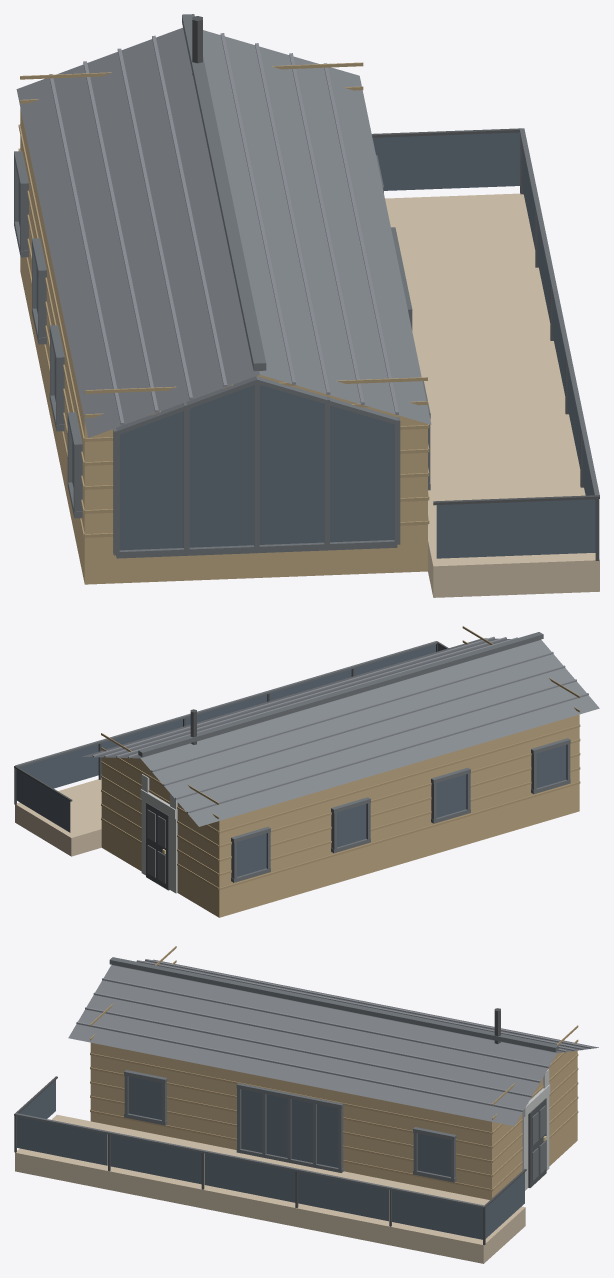
3 views of the same model, one above another, from view 1: azimuth 30°, elevation 25°; view 2: azimuth 150°, elevation 25°; view 3: azimuth 270°, elevation 25° (orthographic). The views are drawn at different scales.
Visible parts, largest first — view 1: slate, larch, window_glass_014, slate_dk, door_wood, slate_lt, window_glass_006, window_glass_007, door_wood_p, pipe; view 2: slate, door_wood, slate_dk, slate_lt, door_wood_p, larch, window_glass_005, window_glass_007, stone_band, window_glass_017, window_glass_018, window_glass_015 (+8 smaller); view 3: slate, door_wood, larch, slate_dk, slate_lt, door_wood_p, window_glass_002, window_glass_003, window_glass_001, window_glass_004, window_glass_005, window_glass_009 (+11 smaller).
Boxes of the visible parts, bbox=[...] form: slate: bbox=[16, 27, 431, 437]; larch: bbox=[385, 193, 599, 597]; window_glass_014: bbox=[119, 385, 394, 550]; slate_dk: bbox=[14, 14, 599, 558]; door_wood: bbox=[20, 108, 427, 584]; slate_lt: bbox=[49, 33, 398, 425]; window_glass_006: bbox=[436, 499, 595, 558]; window_glass_007: bbox=[372, 132, 520, 190]; door_wood_p: bbox=[18, 62, 429, 537]; pipe: bbox=[192, 16, 599, 560]; slate: bbox=[82, 638, 599, 826]; door_wood: bbox=[101, 714, 579, 917]; slate_dk: bbox=[15, 632, 570, 882]; slate_lt: bbox=[92, 636, 588, 813]; door_wood_p: bbox=[101, 626, 580, 889]; larch: bbox=[15, 778, 101, 856]; window_glass_005: bbox=[19, 744, 98, 788]; window_glass_007: bbox=[16, 769, 70, 832]; stone_band: bbox=[140, 774, 177, 893]; window_glass_017: bbox=[436, 774, 466, 817]; window_glass_018: bbox=[536, 745, 566, 788]; window_glass_015: bbox=[237, 833, 266, 876]; slate: bbox=[68, 959, 598, 1126]; door_wood: bbox=[90, 1042, 577, 1199]; larch: bbox=[15, 1114, 525, 1263]; slate_dk: bbox=[15, 957, 558, 1208]; slate_lt: bbox=[76, 959, 591, 1111]; door_wood_p: bbox=[90, 946, 578, 1191]; window_glass_002: bbox=[110, 1135, 201, 1184]; window_glass_003: bbox=[204, 1153, 295, 1202]; window_glass_001: bbox=[17, 1116, 107, 1165]; window_glass_004: bbox=[298, 1172, 388, 1221]; window_glass_005: bbox=[392, 1190, 482, 1239]; window_glass_009: bbox=[266, 1094, 287, 1157].
Size of the model in its own units: 11.84 by 4.35 by 14.17.
